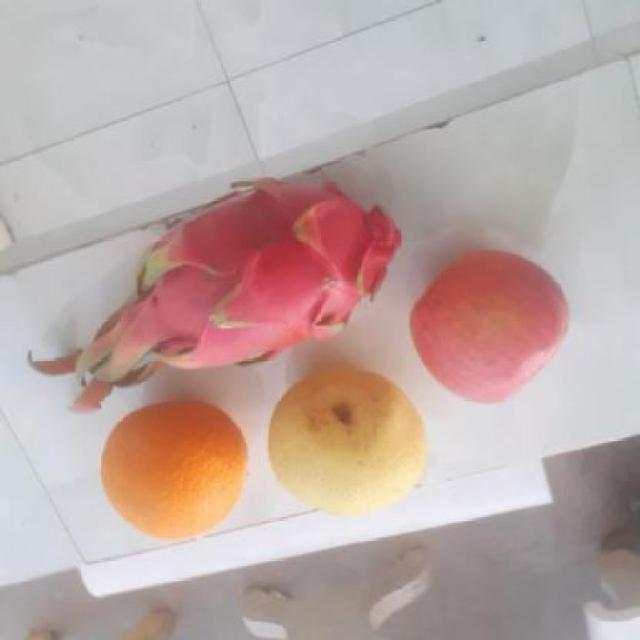apple: (409, 255, 574, 403)
dragon fruit: (120, 181, 414, 374)
oren: (96, 397, 255, 548)
pear: (265, 370, 437, 515)
